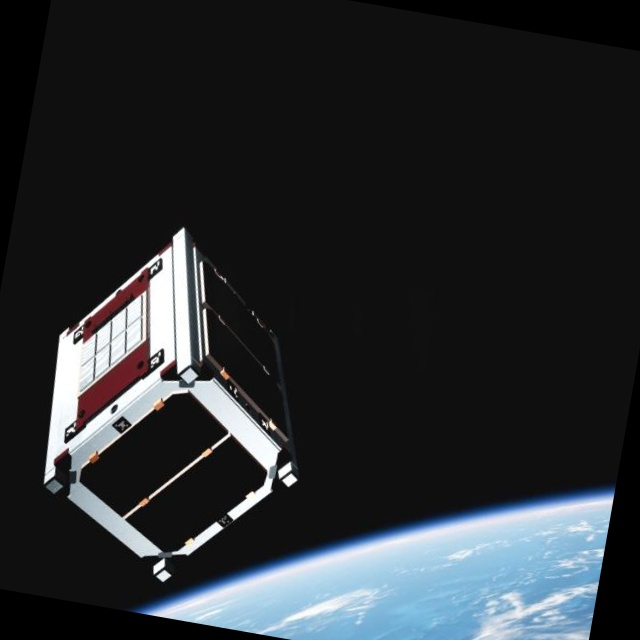medium_debris: (0, 206, 348, 607)
